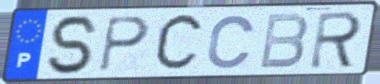B: (257, 12, 311, 71)
C: (151, 10, 207, 76), (204, 13, 258, 71)
P: (97, 15, 152, 75)
R: (307, 10, 366, 71)
S: (46, 13, 102, 77)
